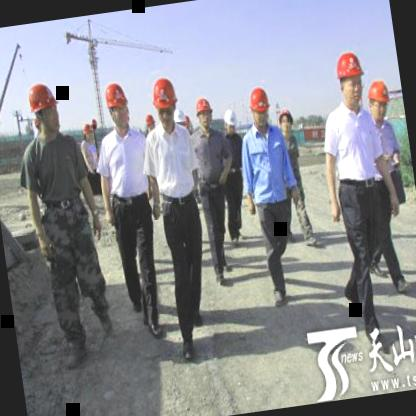helmet: (330, 46, 370, 111), (22, 78, 62, 142), (100, 78, 131, 134), (148, 76, 179, 131), (243, 83, 272, 130), (366, 74, 394, 122), (190, 91, 216, 130), (276, 101, 297, 136), (220, 102, 238, 136), (78, 118, 96, 143)
